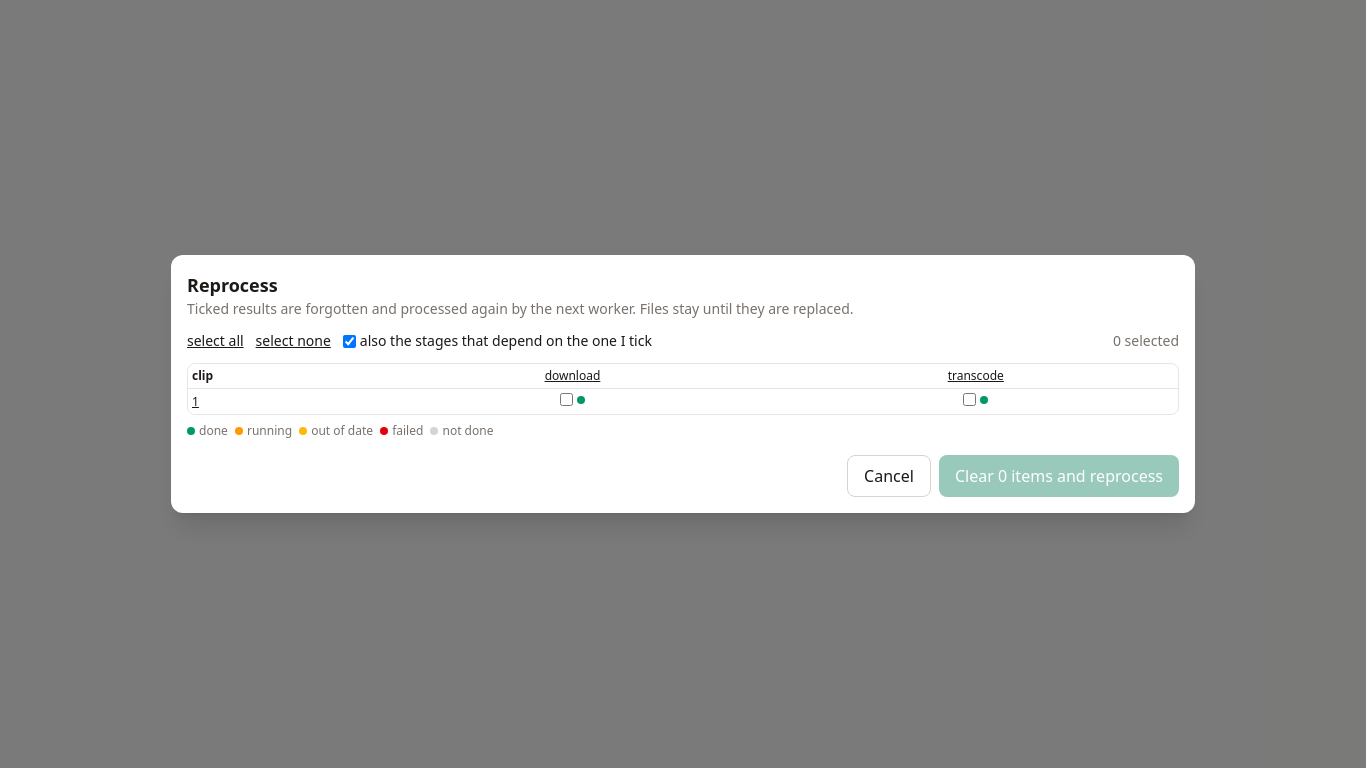
Test: RedoDialog › handles cascade selection correctly
Expected: the text "0 selected" is shown, [1113,331,1179,351]
Note: Toggling download cascades to transcode
Click the 2nd checkbox. click: (566, 400)
box: [560,393,573,406]
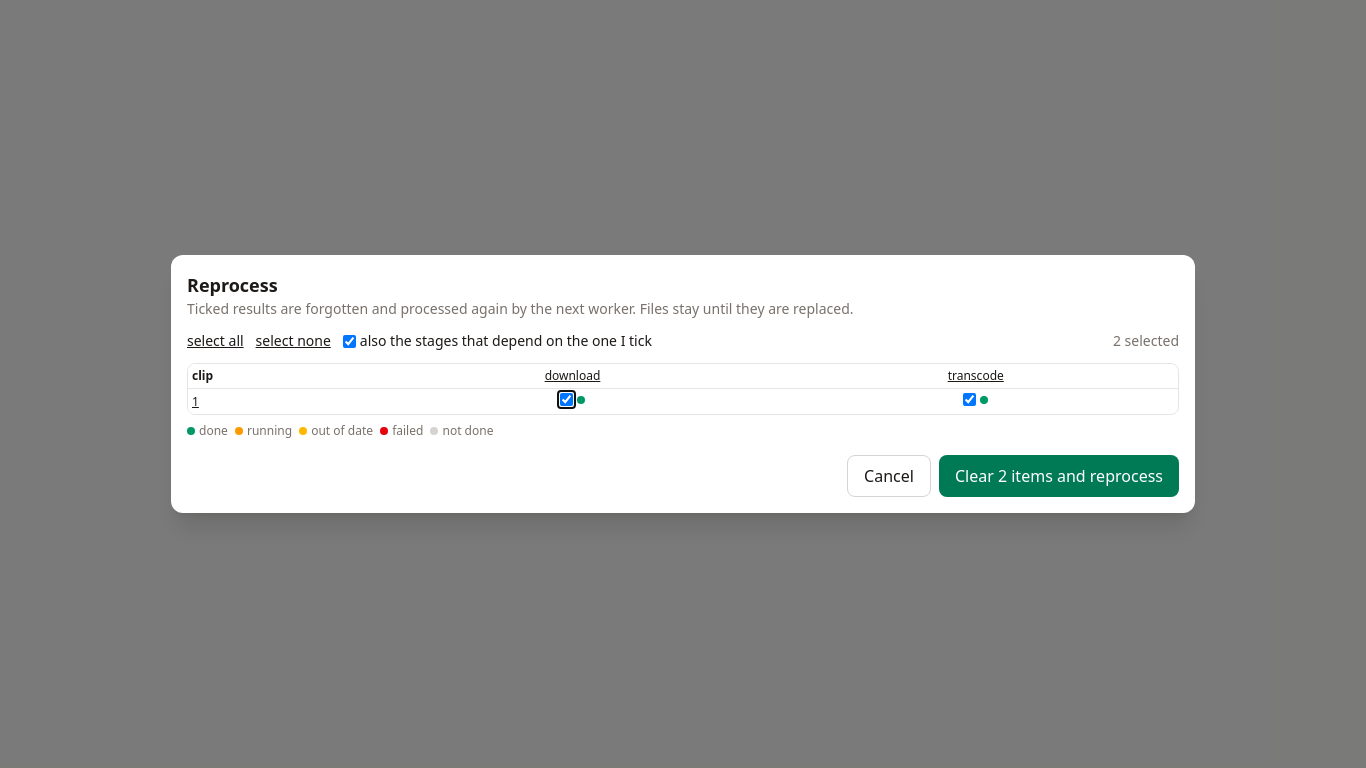
Now the text "2 selected" is shown, box [1113,331,1179,351]
Note: Turn off cascade
Click the checkbox labelled "also the stages that depend on the one I tick". click: (349, 341)
box: [343,334,356,348]
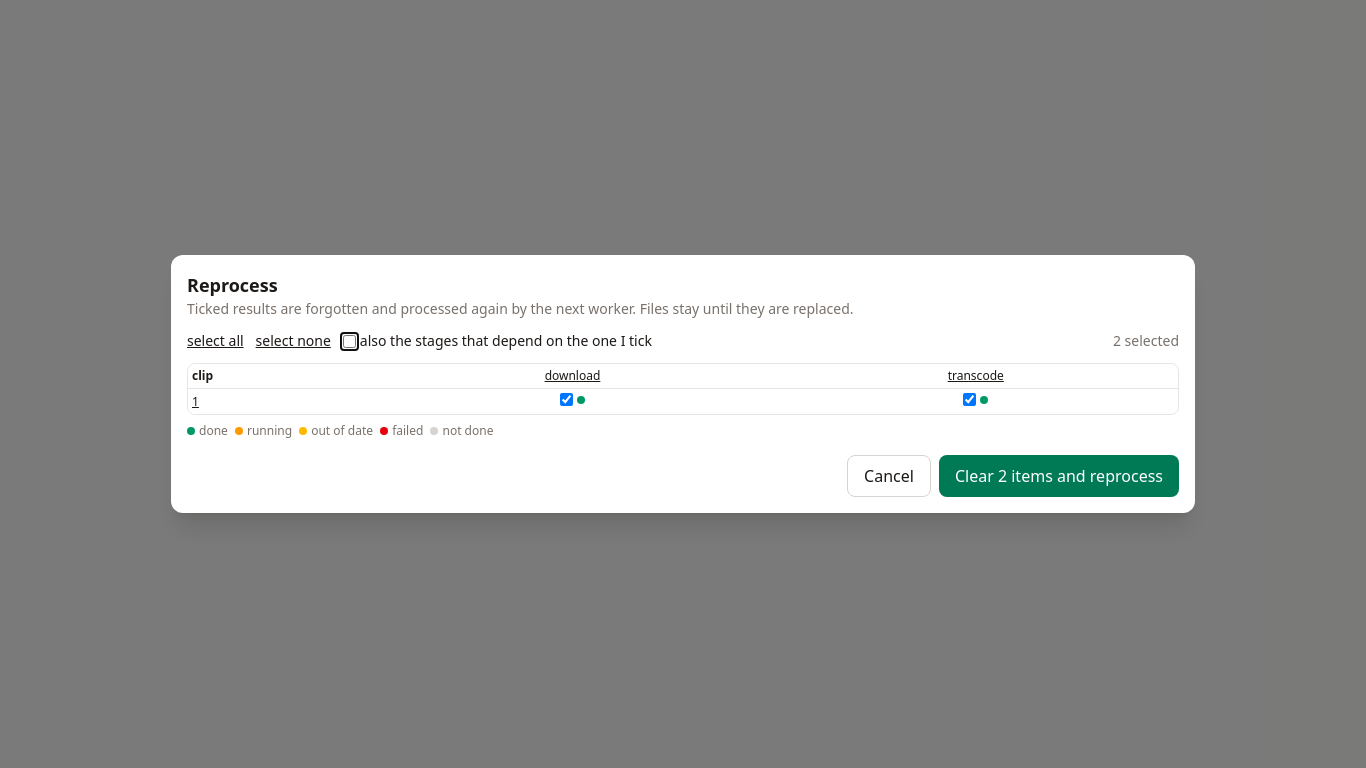
Note: Unchecking now only removes download
Click the 2nd checkbox. click: (566, 400)
box: [560,393,573,406]
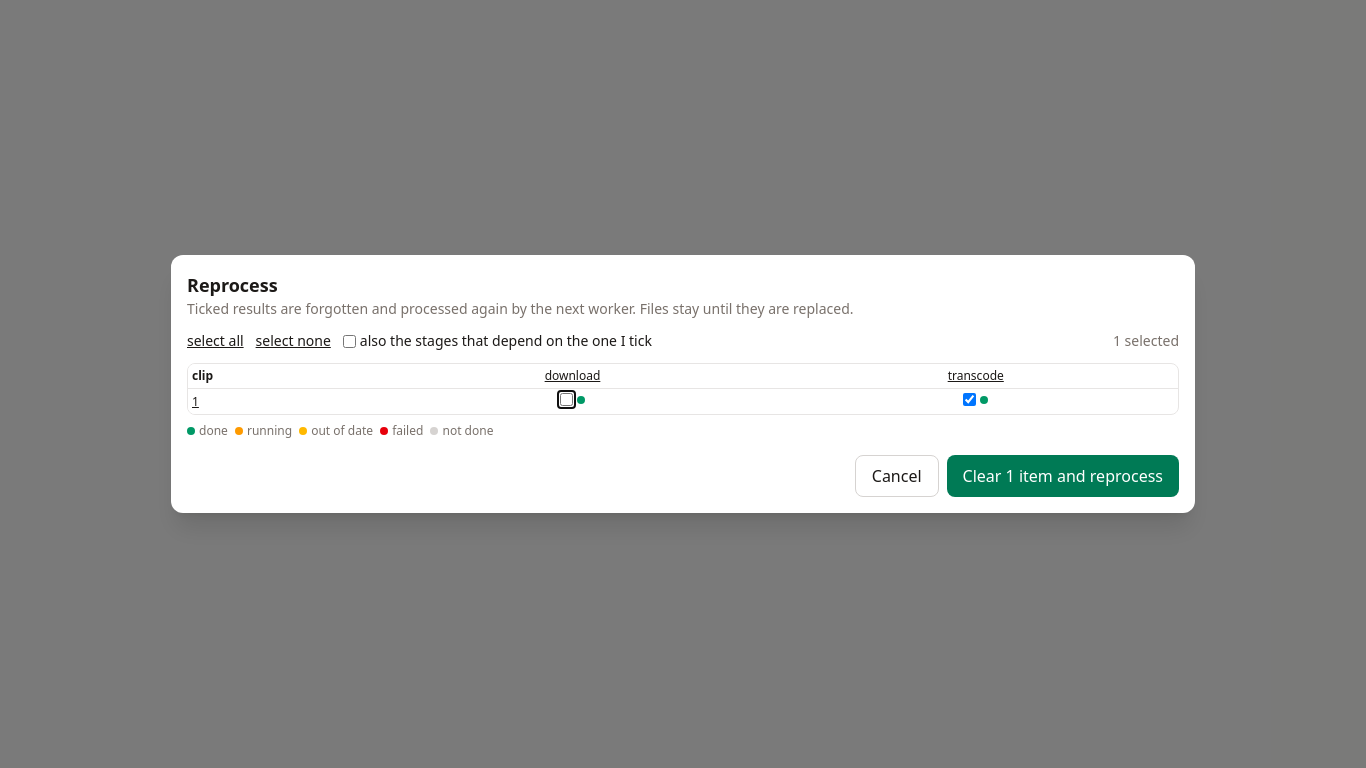
Now the text "1 selected" is shown, box [1113,331,1179,351]
